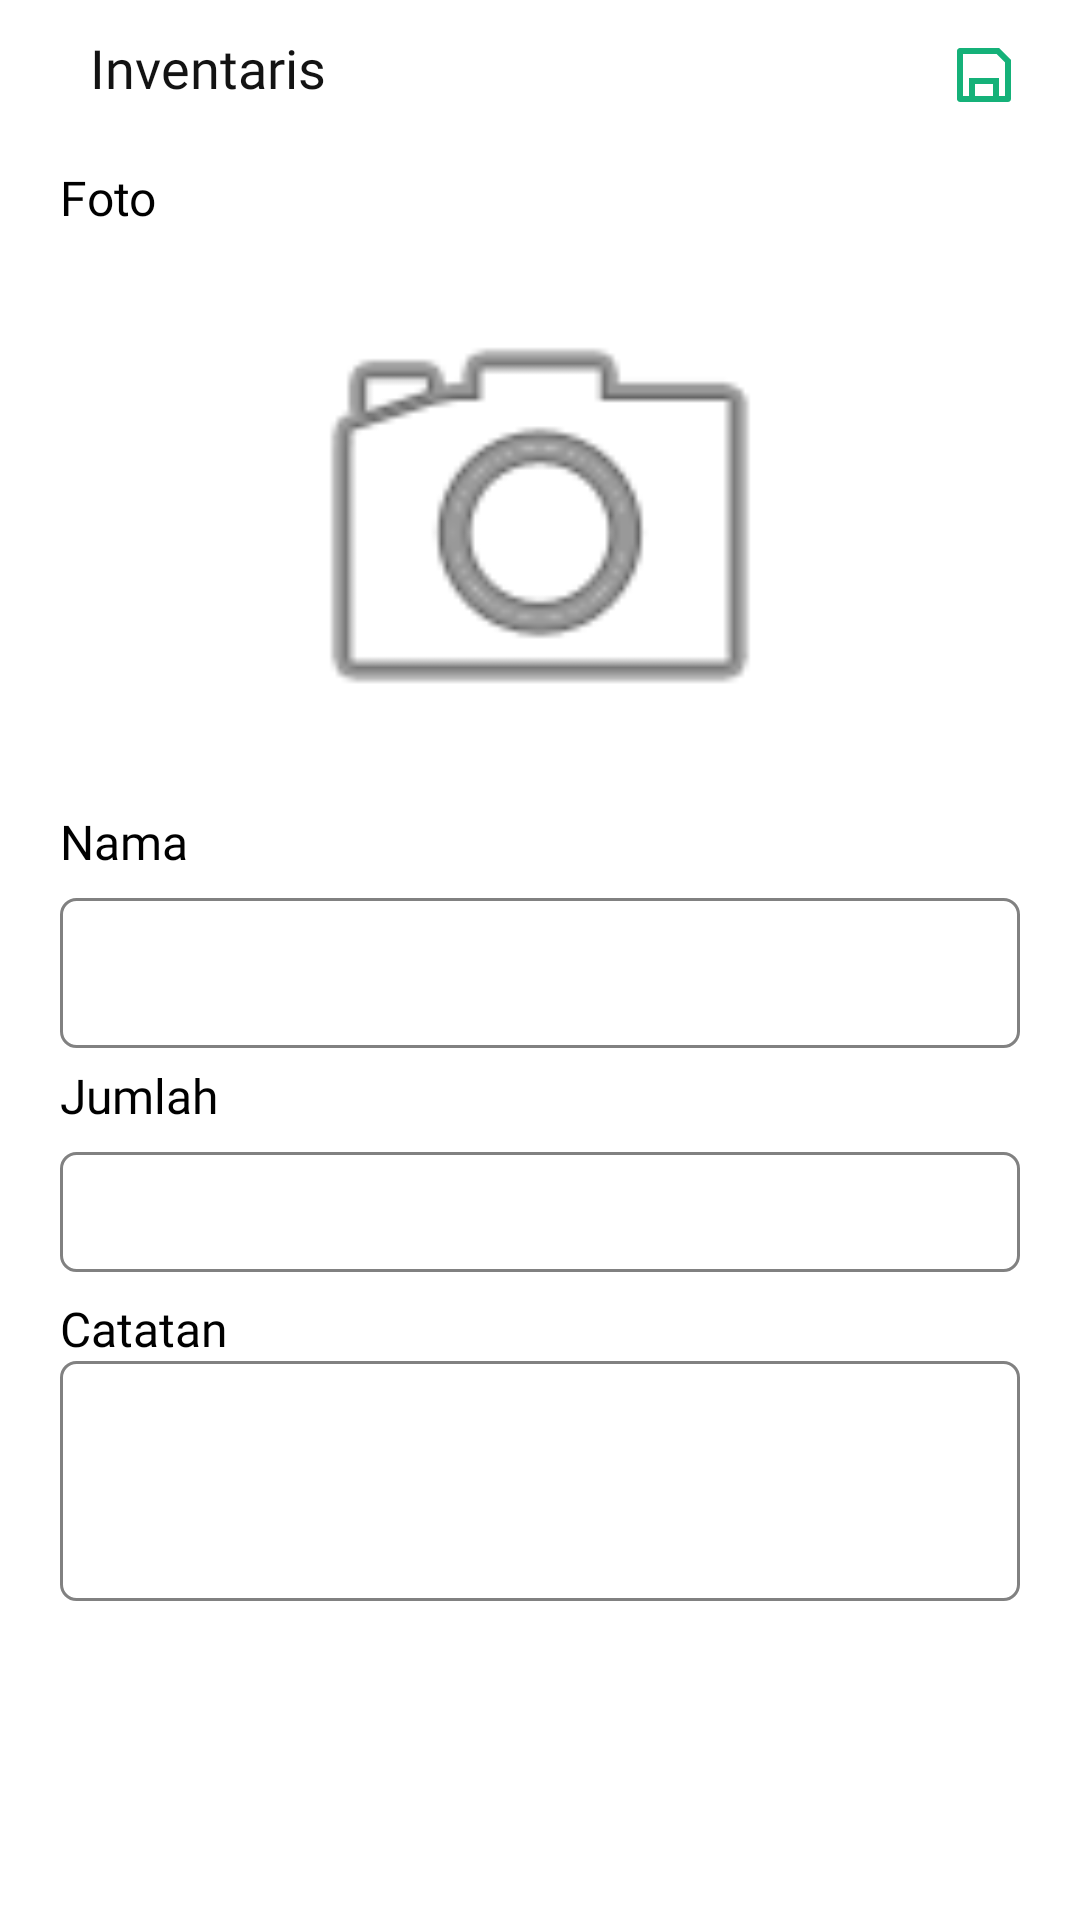

Named icons in this screenshot (1080w x 1920h) and their centers, [x,y]:
save: [984,75]
